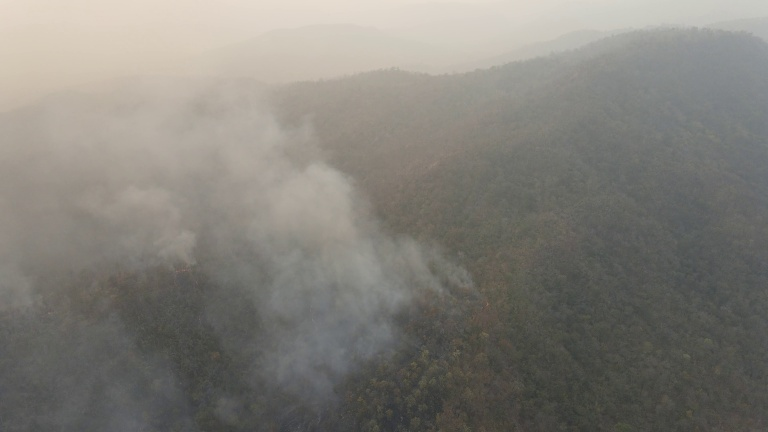smoke: (1, 28, 470, 431)
